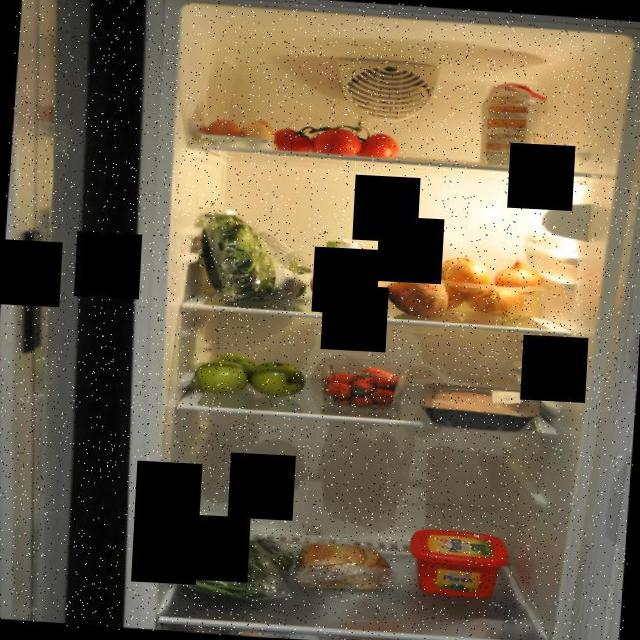Carne pollo: (414, 379, 544, 433)
Cebolla: (424, 251, 544, 326)
Huevos: (198, 114, 278, 150)
Mantequilla: (404, 526, 510, 602)
Manzana: (190, 349, 308, 403)
Tomate: (264, 120, 402, 160)
